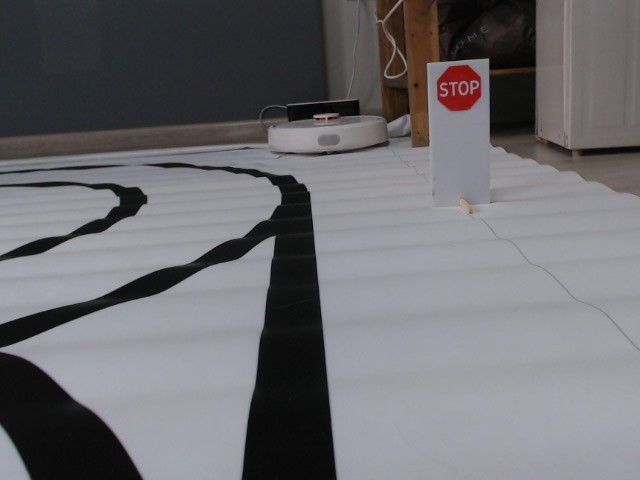Stop: (434, 64, 483, 113)
